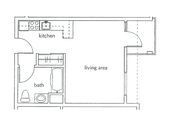door: (14, 34, 37, 56), (124, 29, 145, 52)
room: (9, 13, 149, 115)
wall: (20, 101, 143, 111), (13, 17, 157, 22), (14, 53, 19, 106)
